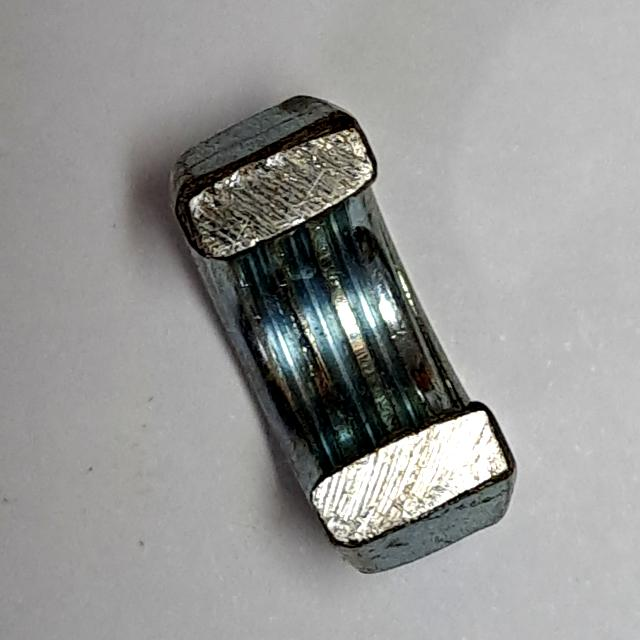Side-Fracture: (156, 81, 525, 593)
